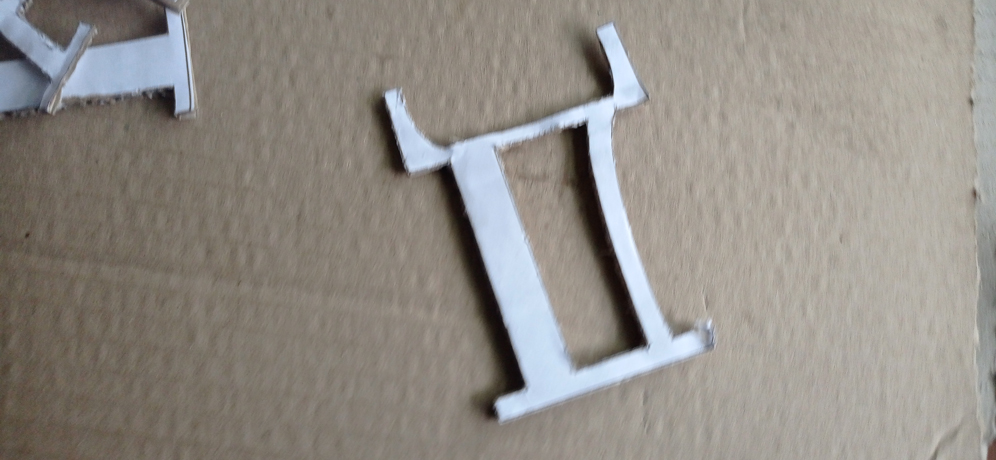d: (380, 22, 715, 424)
